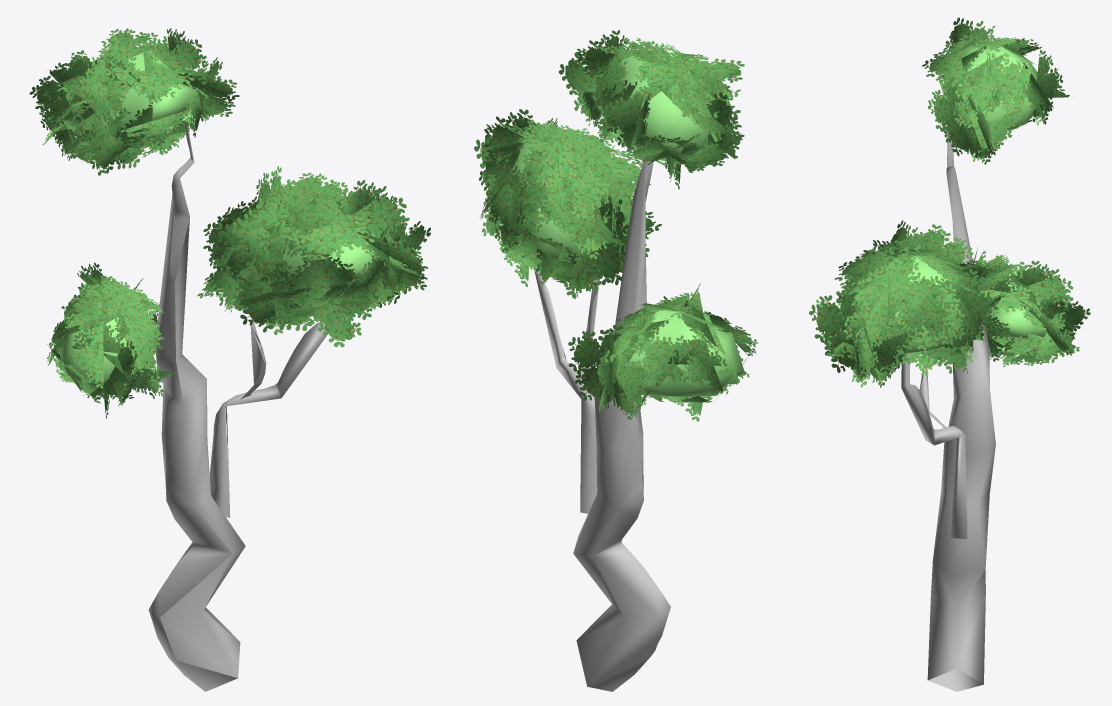
The model's file is SM_Navitree_B_low.fbx.
3 views of the same model, side by side, from view 1: azimuth 30°, elevation 25°; view 2: azimuth 150°, elevation 25°; view 3: azimuth 270°, elevation 25° (orthographic). The views are drawn at different scales.
Parts seen in each view (by area): view 1: SM_Navitree_B_low; view 2: SM_Navitree_B_low; view 3: SM_Navitree_B_low.
Part boxes in pixels (left/top/right/bottom): SM_Navitree_B_low: left=29, top=28, right=430, bottom=691; SM_Navitree_B_low: left=474, top=30, right=758, bottom=691; SM_Navitree_B_low: left=809, top=17, right=1090, bottom=691.
Size of the model in its own units: 2004 by 3766 by 1609.
